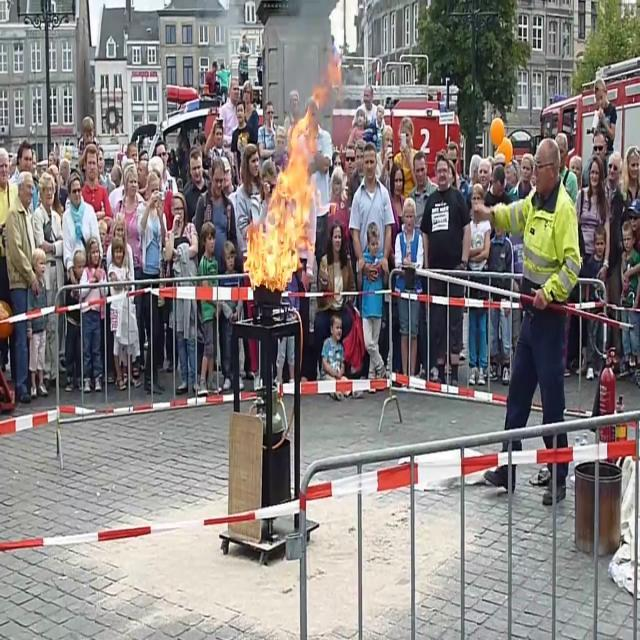Fire: (242, 98, 329, 279)
Smoke: (270, 0, 346, 111)
